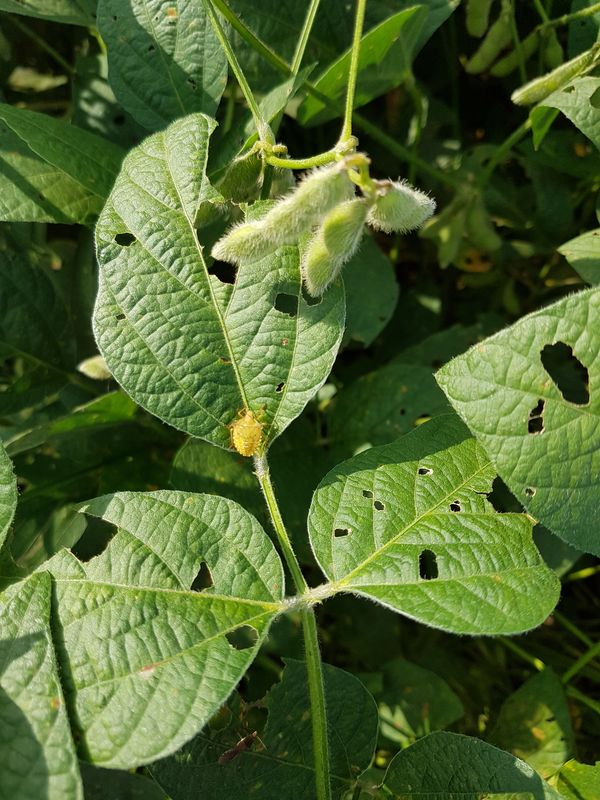Euschistus_heros_adulto: (220, 400, 281, 466)
